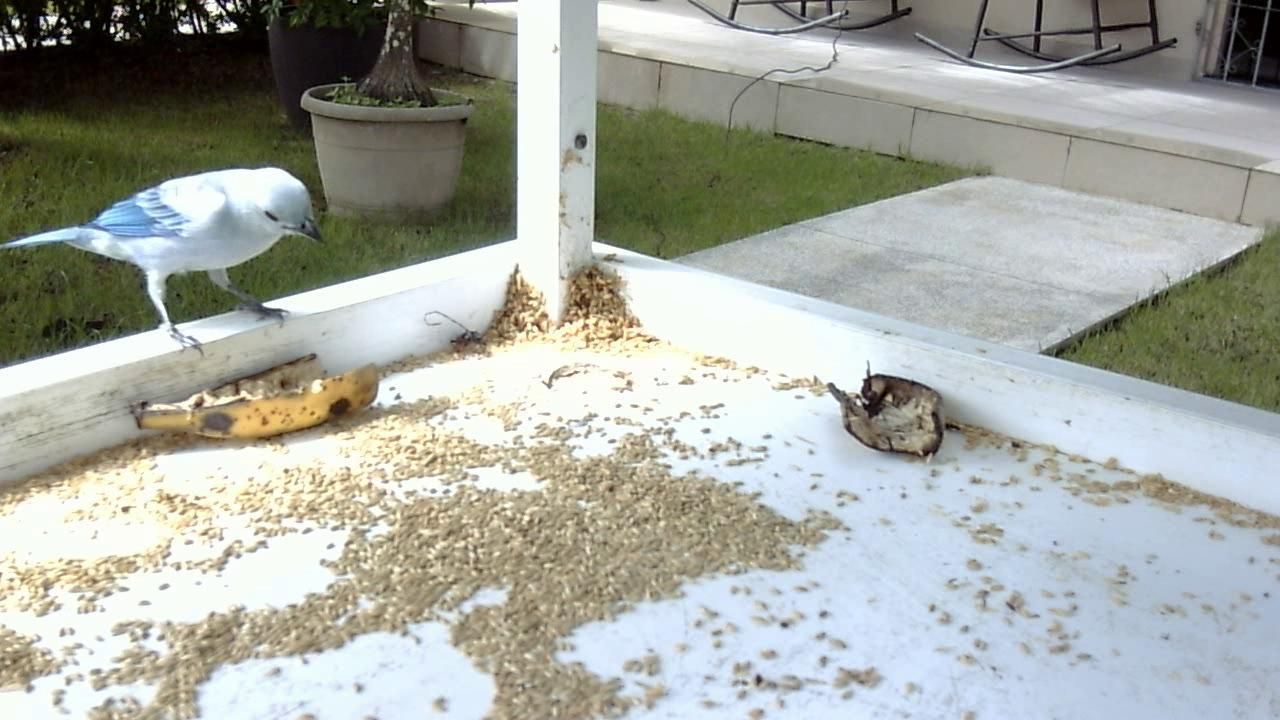sanhaco_da_amazonia: (7, 152, 327, 360)
